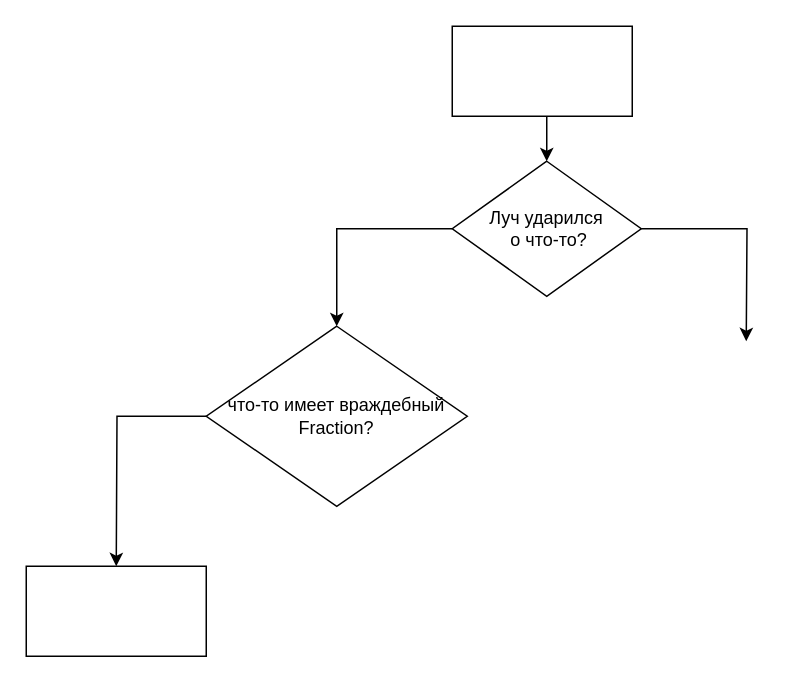
The diagram is 786 pixels wide and 683 high, and some of its shapes have lost their labels. Each missing label, with the centre of its shape:
Занести объект в список врагов: point (115, 610)
Провести луч: point (541, 70)
